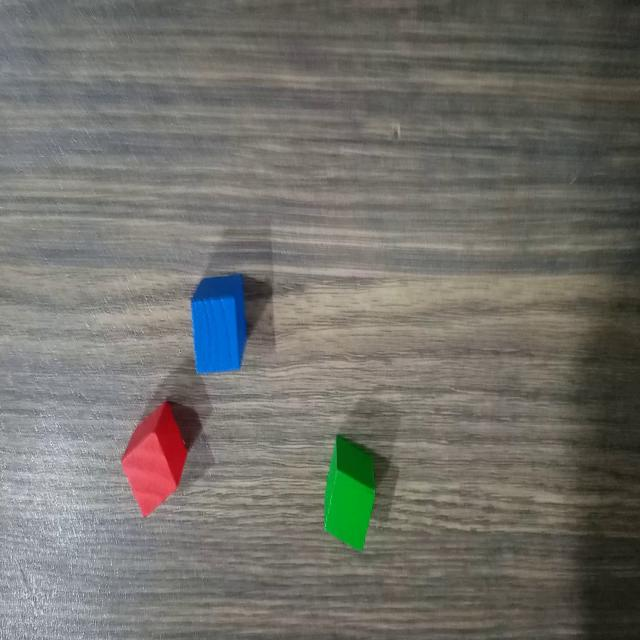cube: (118, 400, 188, 515), (321, 432, 378, 554), (188, 273, 248, 379)
